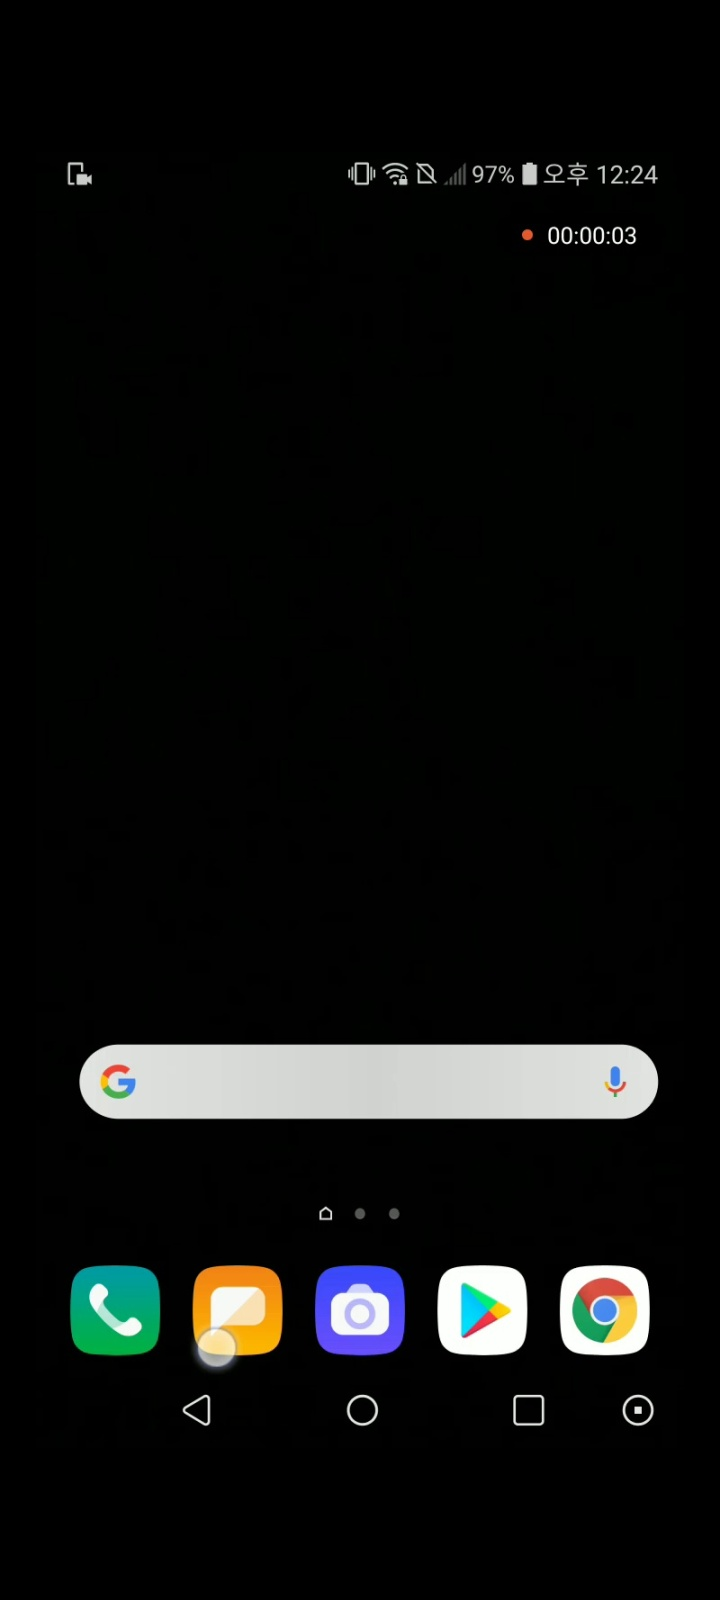Cursor: (194, 1324, 239, 1370)
